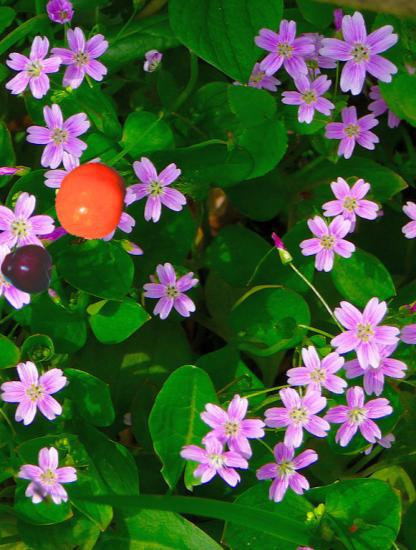Apple: (0, 241, 56, 297)
Clementine: (52, 161, 131, 240)
